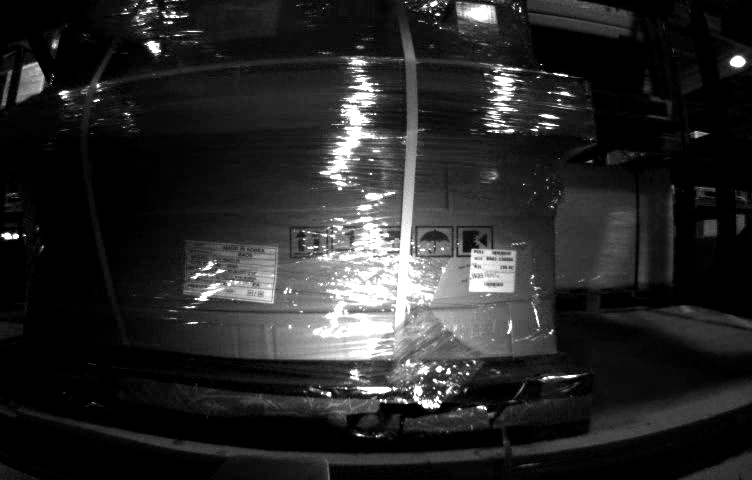True Barcode: (470, 249, 517, 293)
